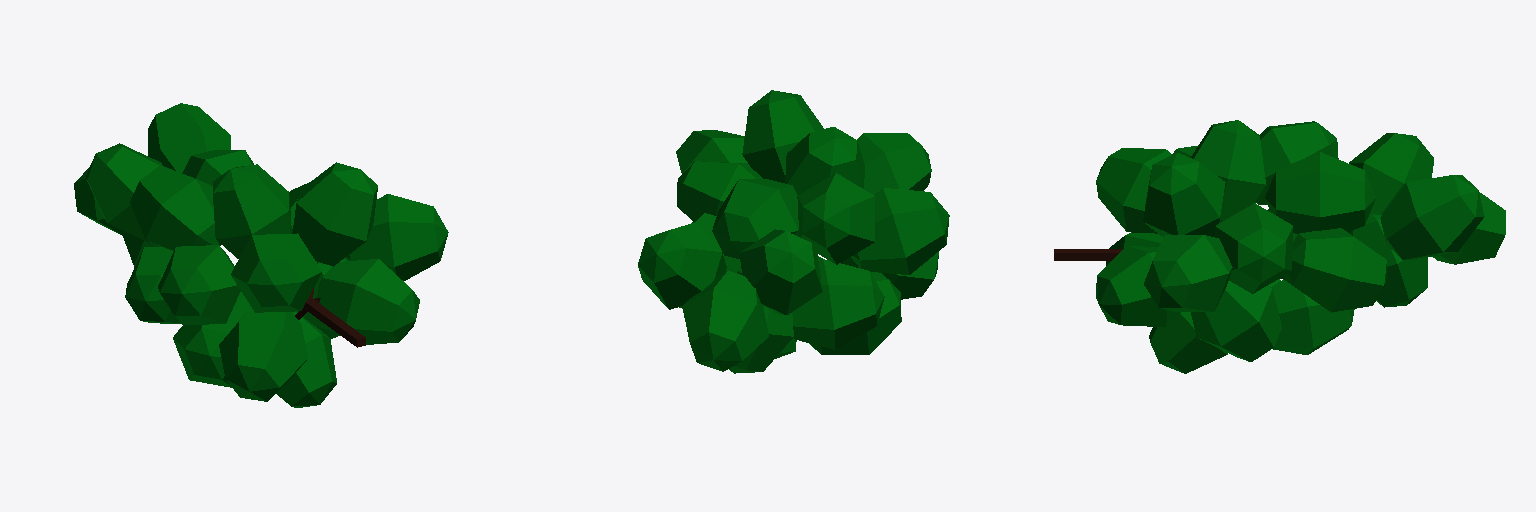
Rendered from UvasVari.obj.
3 renders of one model, left to right at view 1: azimuth 30°, elevation 25°; view 2: azimuth 150°, elevation 25°; view 3: azimuth 270°, elevation 25°, orthographic.
Parts seen in each view (by area): view 1: Grapes_01; view 2: Grapes_01; view 3: Grapes_01.
Boxes of the visible parts, box(x1,y1,x2,y2) form: Grapes_01: box(74, 103, 448, 407); Grapes_01: box(638, 90, 949, 373); Grapes_01: box(1054, 120, 1505, 373).
Size of the model in its own units: 63.26 by 51.3 by 90.7.